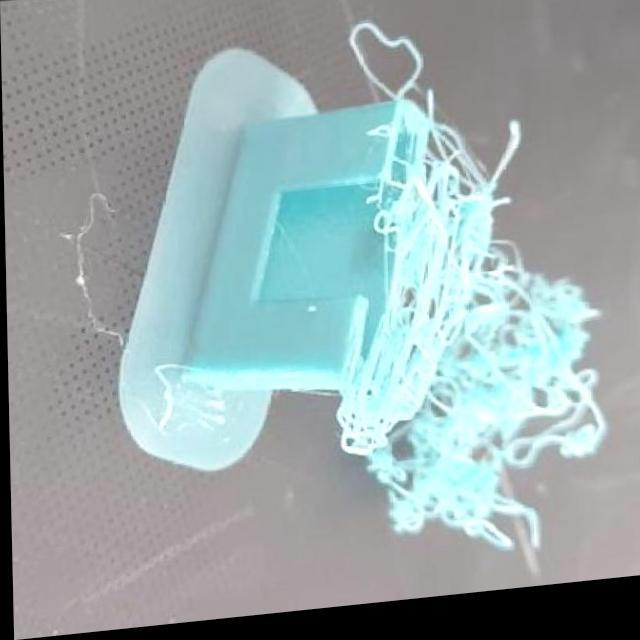spaghetti: (330, 239, 612, 608), (340, 11, 530, 262)
